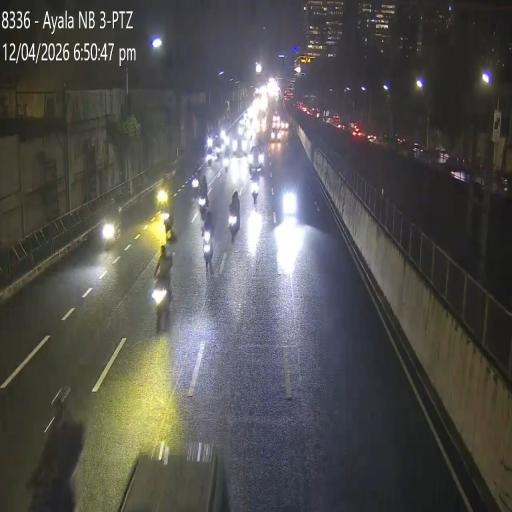Car: (119, 437, 228, 512), (247, 145, 266, 177)
Motor: (26, 382, 84, 512), (152, 255, 174, 330), (100, 192, 126, 255), (200, 222, 213, 272), (198, 172, 210, 218), (190, 166, 202, 200), (164, 201, 175, 237), (228, 204, 240, 236), (250, 177, 259, 208), (160, 184, 170, 211)
Not Accident: (247, 144, 266, 210)
